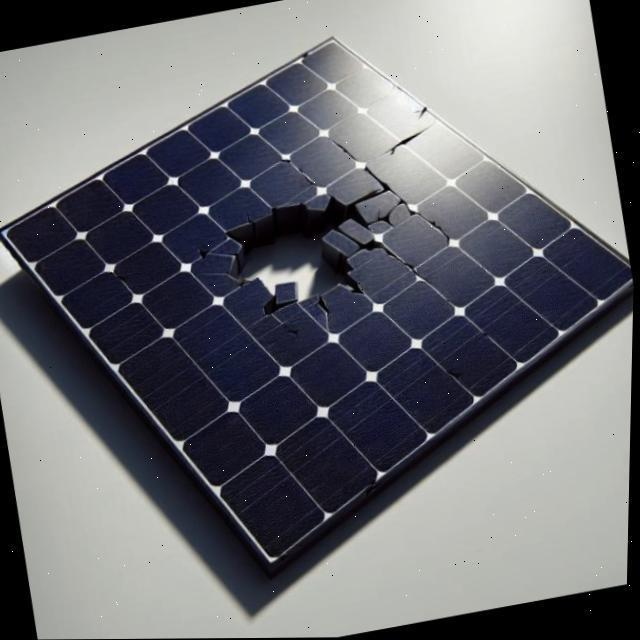Anomaly Solar Panel: (0, 0, 640, 614)
Structural Damage: (206, 160, 445, 341), (378, 233, 440, 291)
